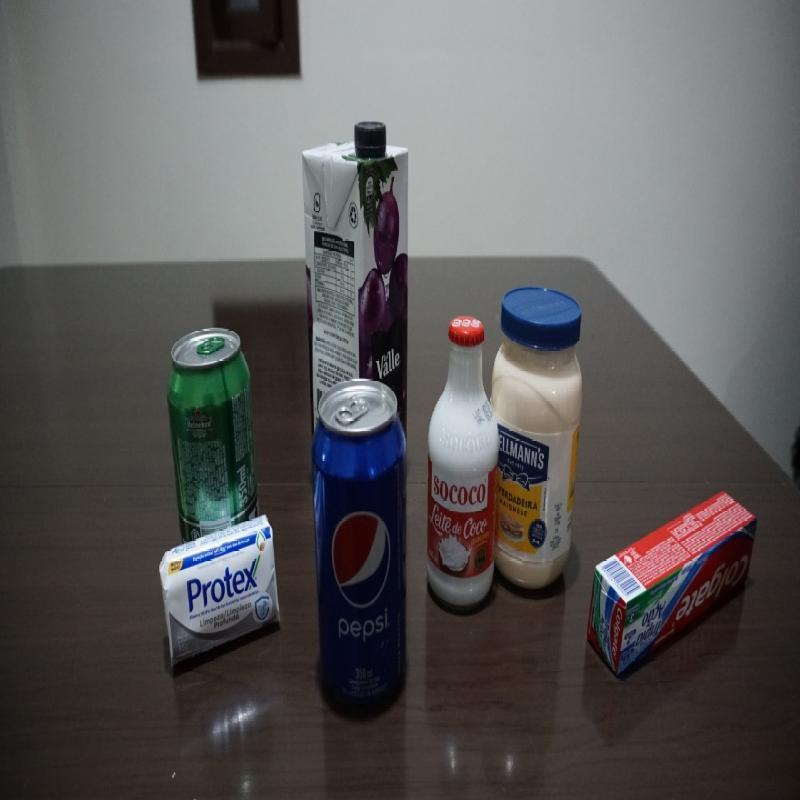Beer can: (166, 326, 260, 515)
Coconut Milk: (427, 312, 500, 608)
Mayonnaise: (500, 290, 582, 594)
Soap: (161, 521, 282, 670)
Soda can: (316, 373, 408, 710)
Toothpaste: (587, 490, 756, 679)
